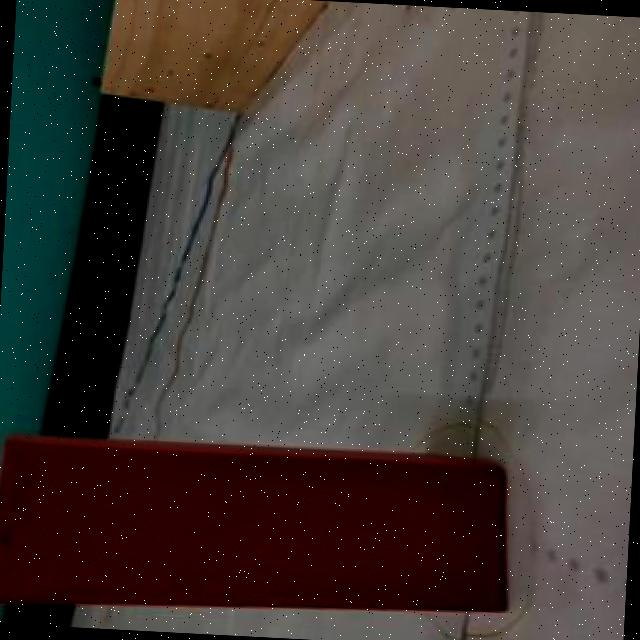redbox: (0, 431, 513, 631)
